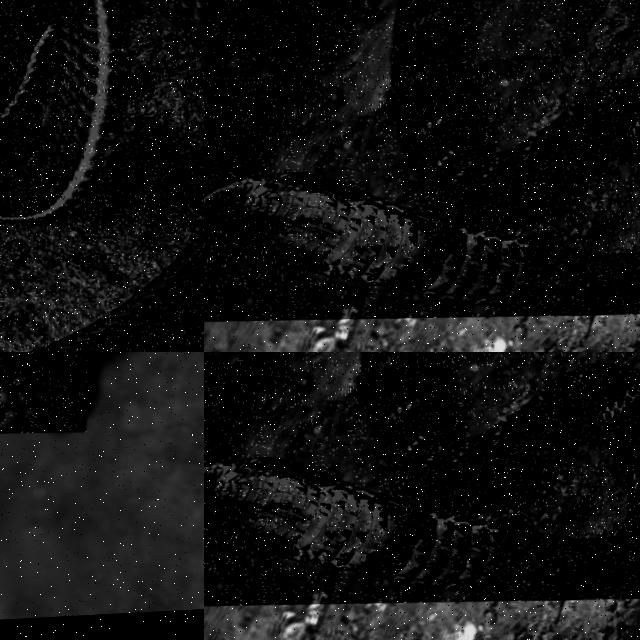Calliophis intestinalis: (0, 0, 127, 221)
Naja kaouthia: (0, 352, 89, 428)
Ophiophagus hannah: (204, 352, 639, 599), (204, 172, 639, 314)
